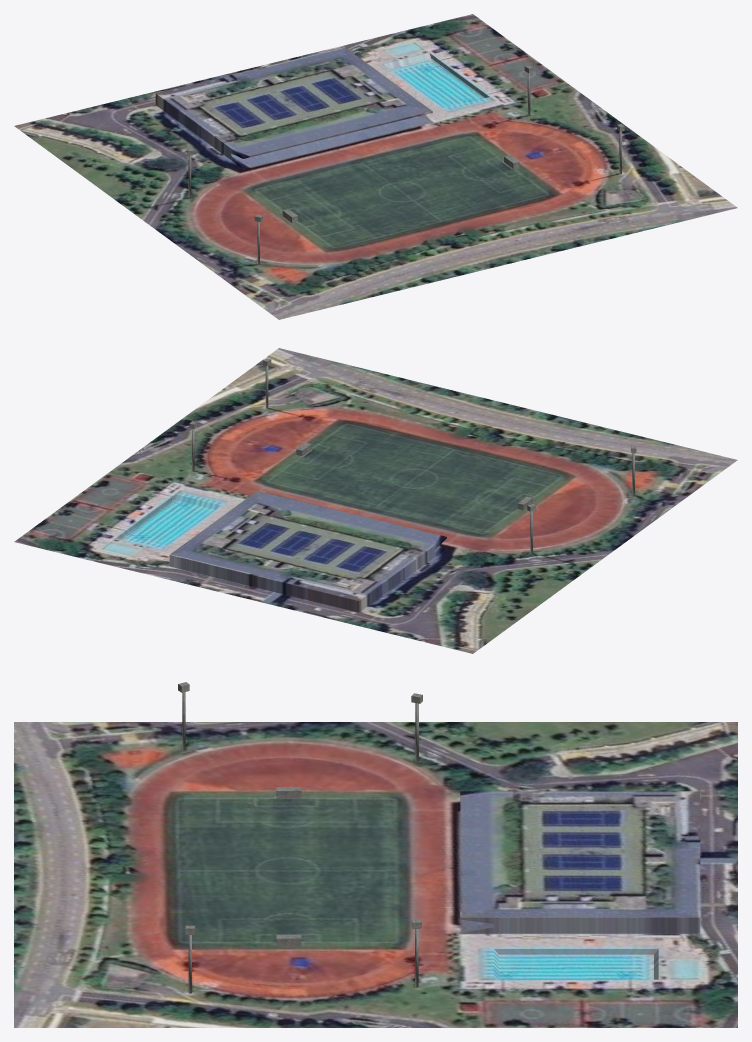
Rendered from sutd_field.dae.
3 renders of one model, top to bottom at view 1: azimuth 30°, elevation 25°; view 2: azimuth 150°, elevation 25°; view 3: azimuth 270°, elevation 25°, orthographic. The views are drawn at different scales.
Parts seen in each view (by area): view 1: sutd_field; view 2: sutd_field; view 3: sutd_field.
Part boxes in pixels (bbox=[...]): sutd_field: bbox=[14, 14, 737, 319]; sutd_field: bbox=[14, 348, 737, 653]; sutd_field: bbox=[14, 682, 737, 1027].
Size of the model in its own units: 207 by 207 by 22.58.
3 materials, 3 textured.
